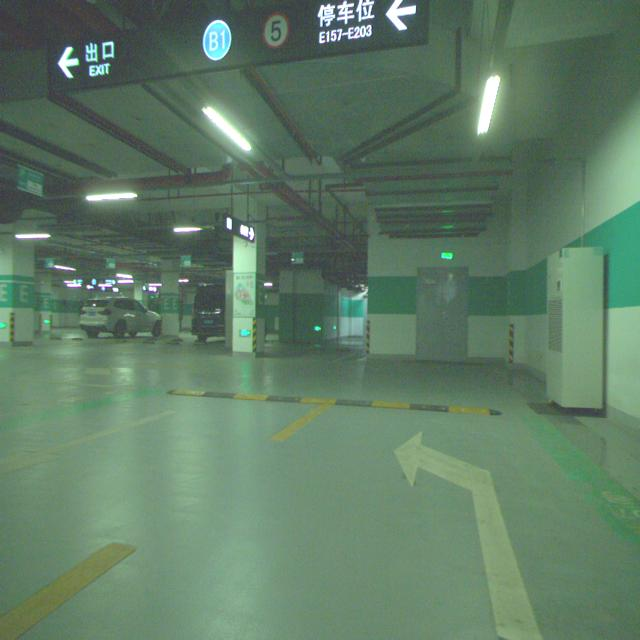pillar: (232, 223, 265, 353)
